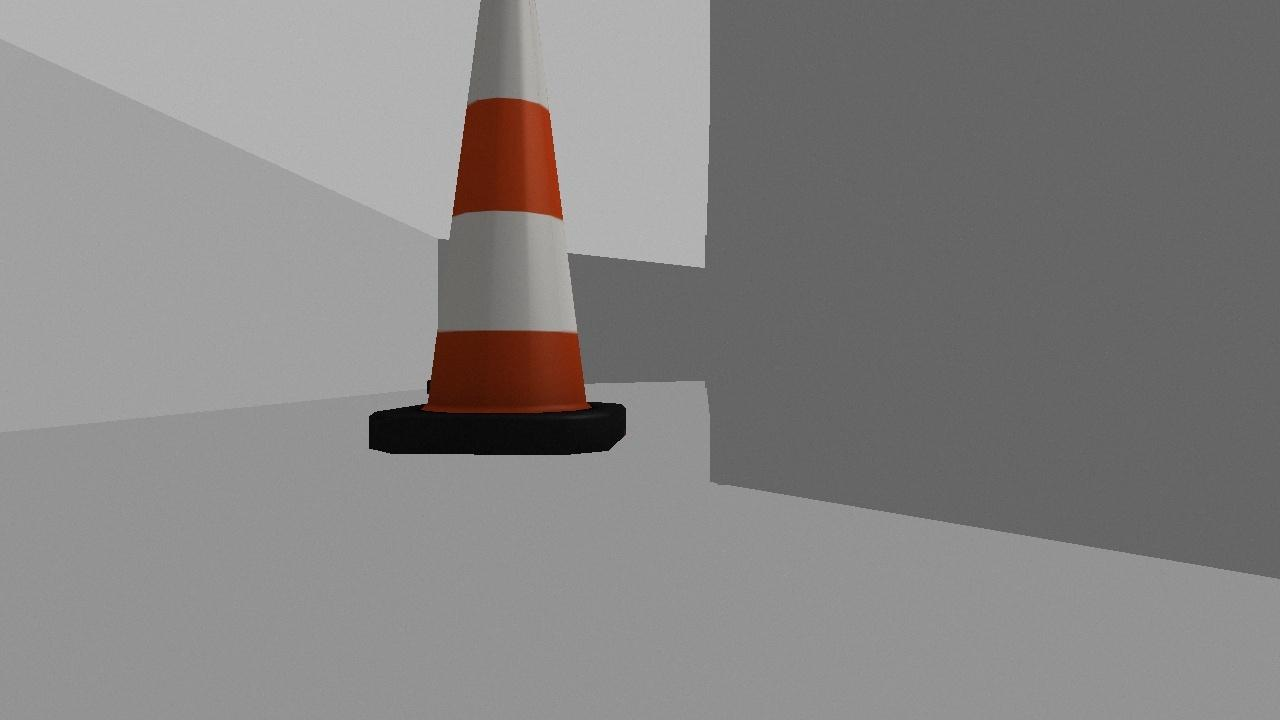cone_barrel: (365, 0, 630, 457)
